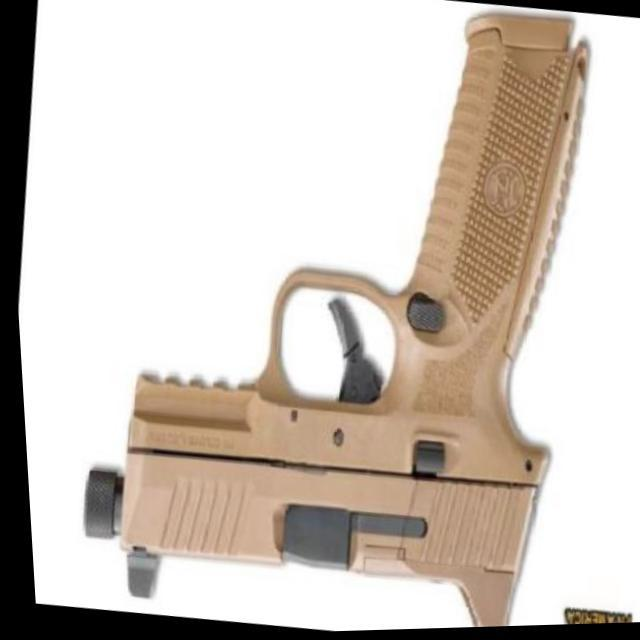weapon: (42, 0, 621, 639)
